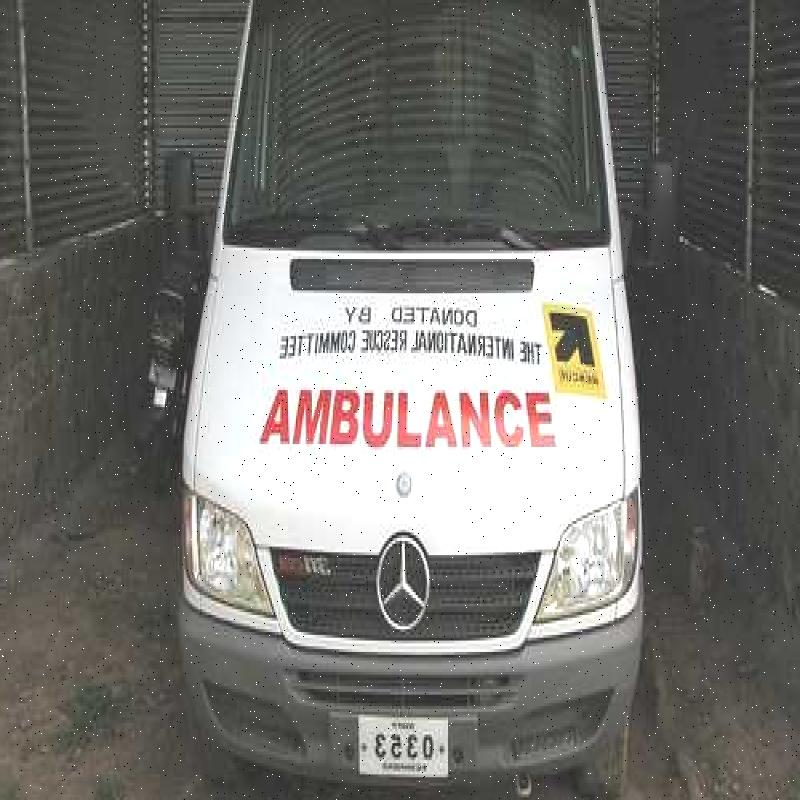ambulance: (145, 10, 666, 800)
